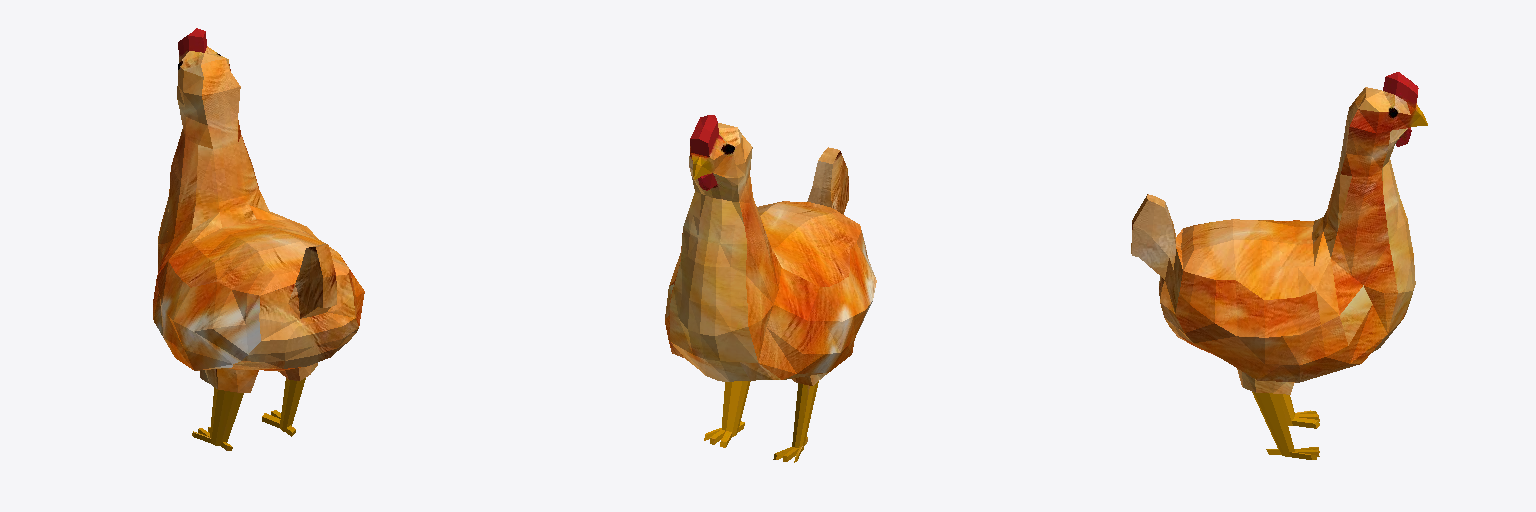
The picture shows the model from 3 angles: view 1: azimuth 30°, elevation 25°; view 2: azimuth 150°, elevation 25°; view 3: azimuth 270°, elevation 25°; orthographic projection.
Parts seen in each view (by area): view 1: pCube1; view 2: pCube1; view 3: pCube1.
Part boxes in pixels (x1,y1,x2,y2): pCube1: (153, 28, 364, 450); pCube1: (665, 115, 876, 462); pCube1: (1131, 72, 1427, 459).
Size of the model in its own units: 0.2002 by 0.3913 by 0.286.
Materials: 1 (1 with a texture image).